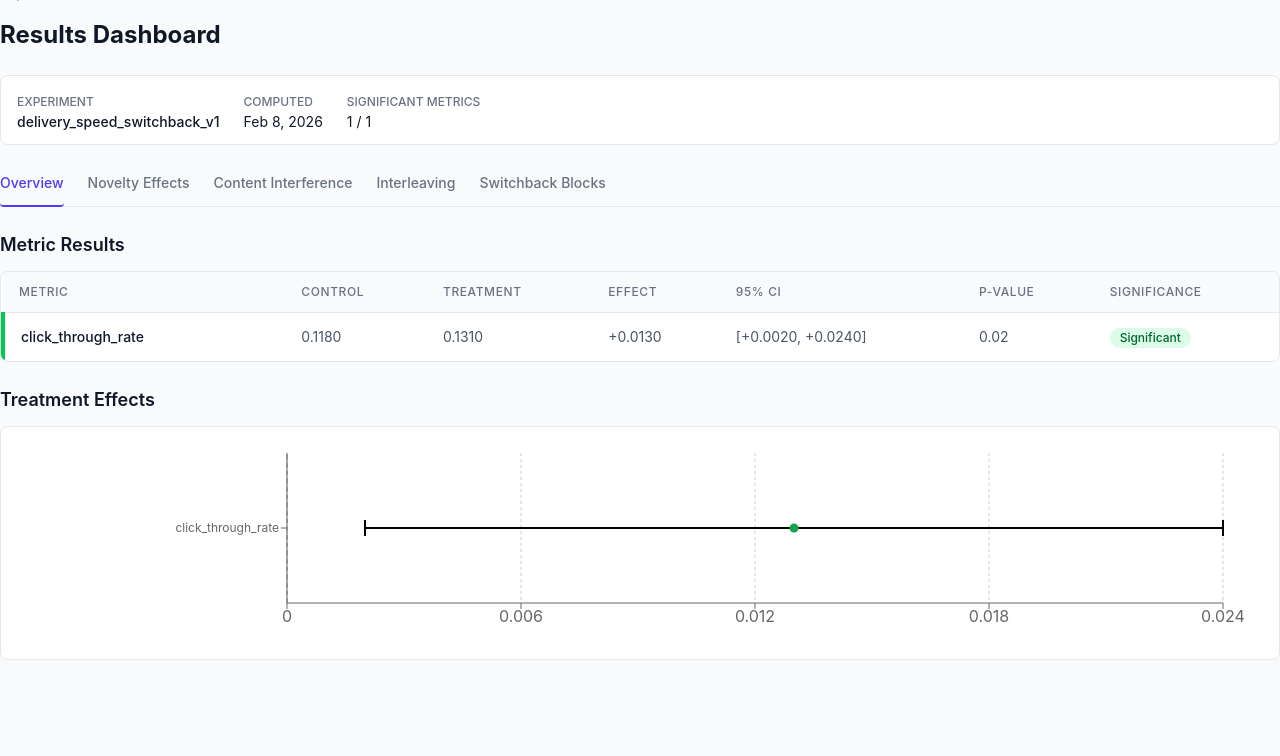
Switchback Tab — delivery_speed_switchback_v1 › shows ACF carryover diagnostic chart
What coordinates should you click on to do the following:
click the tab "Switchback Blocks"
I would click on:
 (543, 188)
Its box is [480, 169, 606, 207].
(page scrolled)
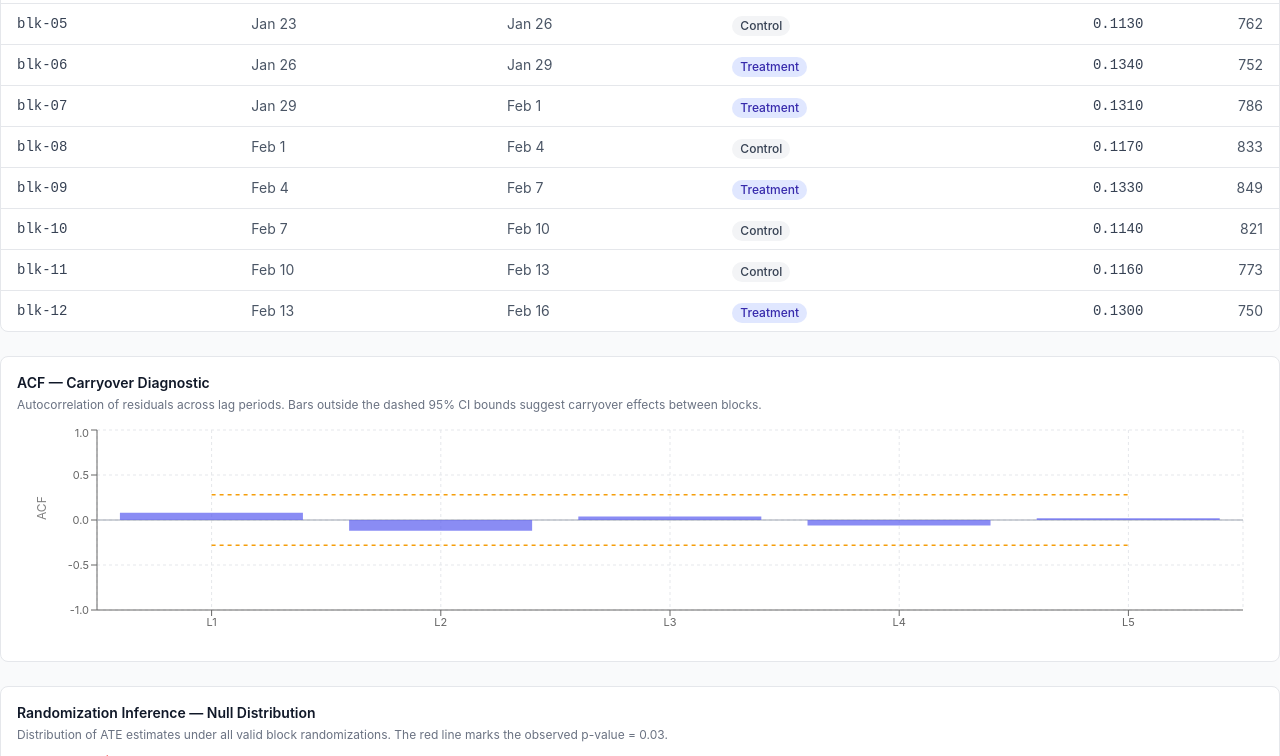
Result: the heading "ACF — Carryover Diagnostic" is shown at [17, 374, 210, 391]
